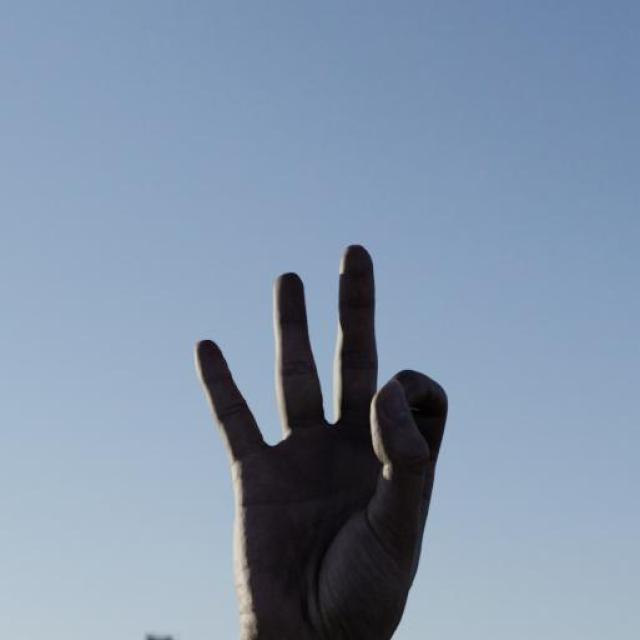F: (190, 243, 451, 636)
